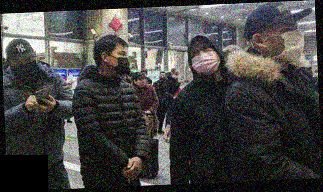with_mask: (266, 26, 306, 63), (190, 46, 222, 77), (11, 58, 38, 81), (108, 50, 132, 74), (172, 69, 180, 81), (178, 82, 186, 91), (159, 73, 167, 81)
without_mask: (137, 77, 147, 89)
